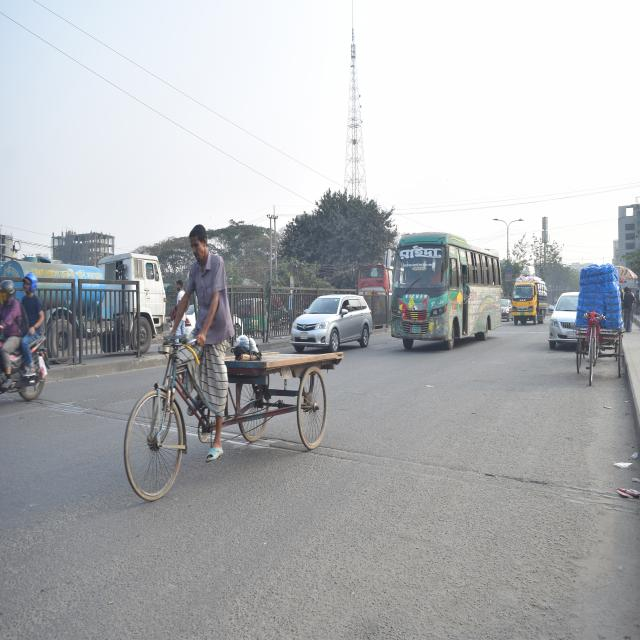bus: (388, 223, 505, 359)
car: (291, 288, 373, 360), (545, 291, 581, 353)
motorbike: (0, 300, 60, 415)
pickup-van: (511, 274, 545, 328)
